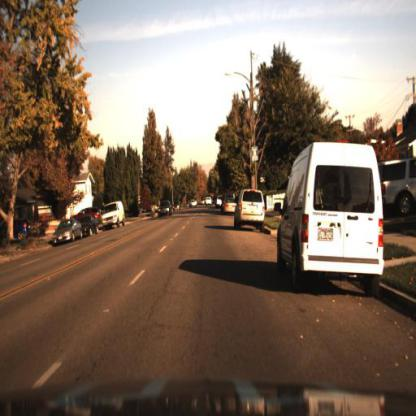car: (278, 144, 385, 289), (234, 187, 269, 238), (49, 214, 82, 251), (98, 195, 128, 235), (153, 196, 178, 222), (80, 214, 102, 238), (222, 197, 239, 219), (81, 205, 104, 218), (214, 193, 224, 211)
